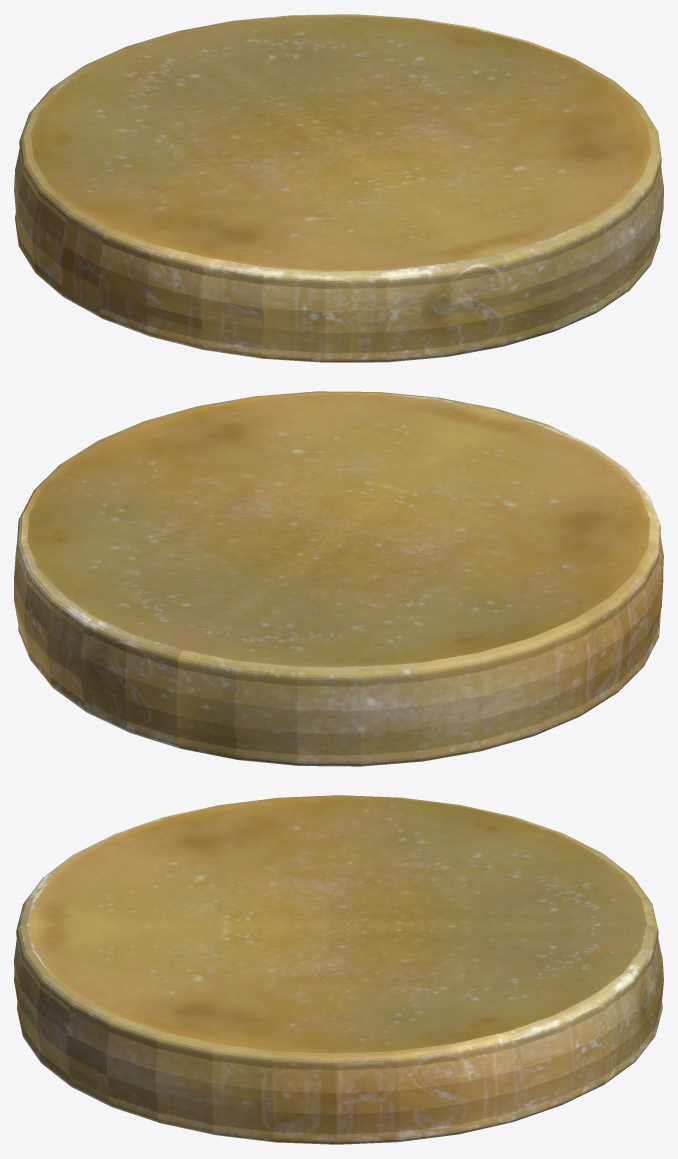
File: cheeese.gltf
3 renders of one model, top to bottom at view 1: azimuth 30°, elevation 25°; view 2: azimuth 150°, elevation 25°; view 3: azimuth 270°, elevation 25°, orthographic. The views are drawn at different scales.
Visible parts, largest first — view 1: Cylindre; view 2: Cylindre; view 3: Cylindre.
Part boxes in pixels (x1,y1,x2,y2): Cylindre: (14,14,663,362); Cylindre: (14,391,663,766); Cylindre: (14,795,663,1144).
Bounding box in the file's own units: 0.3021 × 0.0502 × 0.3089.
1 material, 1 textured.
